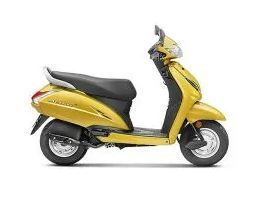bike: (27, 25, 230, 166)
